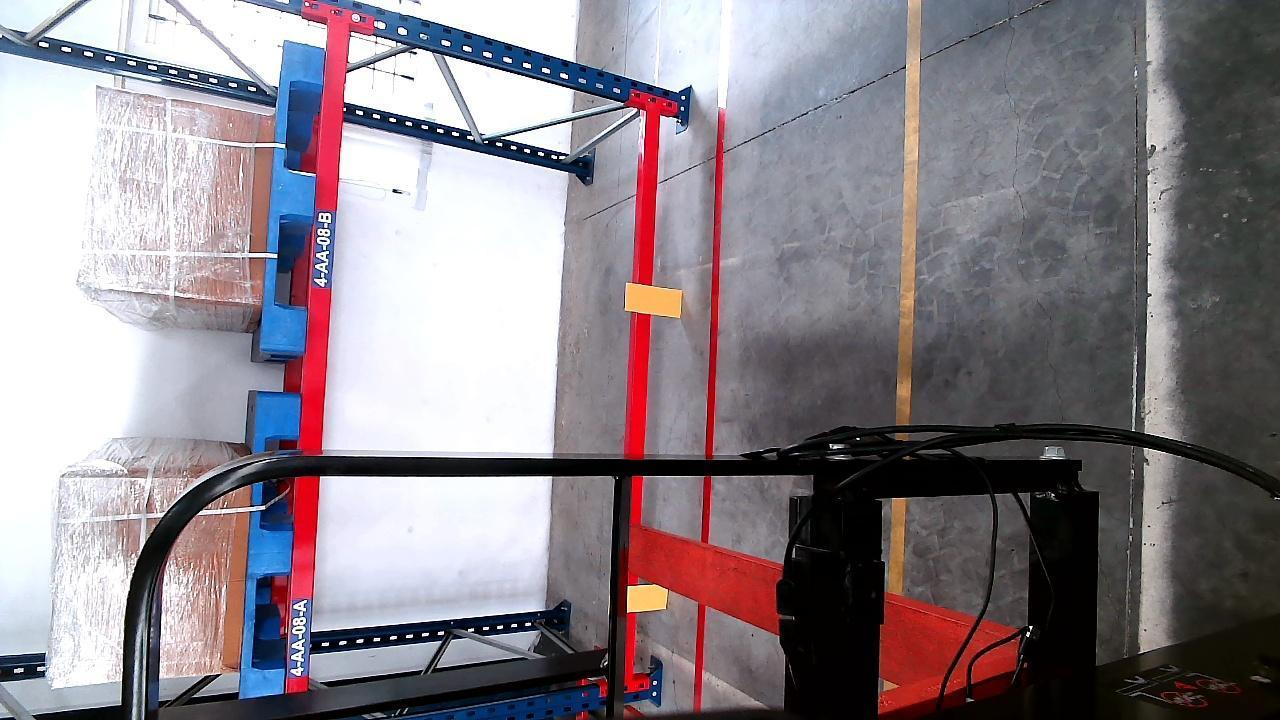h_rack: (285, 25, 353, 692), (625, 113, 662, 688)
orange_strip: (630, 284, 680, 316), (624, 584, 672, 614)
red_line: (694, 82, 729, 709)
small_pallet: (241, 389, 300, 699), (265, 39, 321, 354)
yellow_line: (891, 0, 924, 596)
